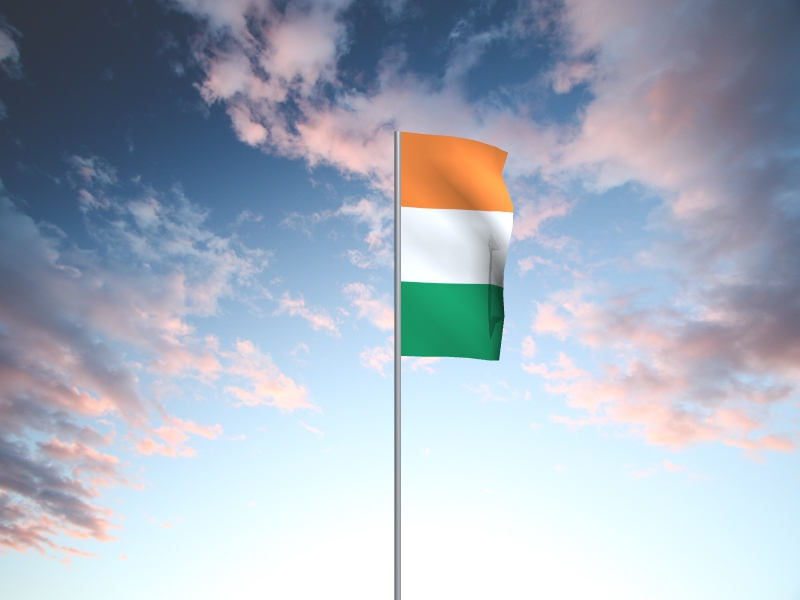ie: (401, 133, 515, 362)
